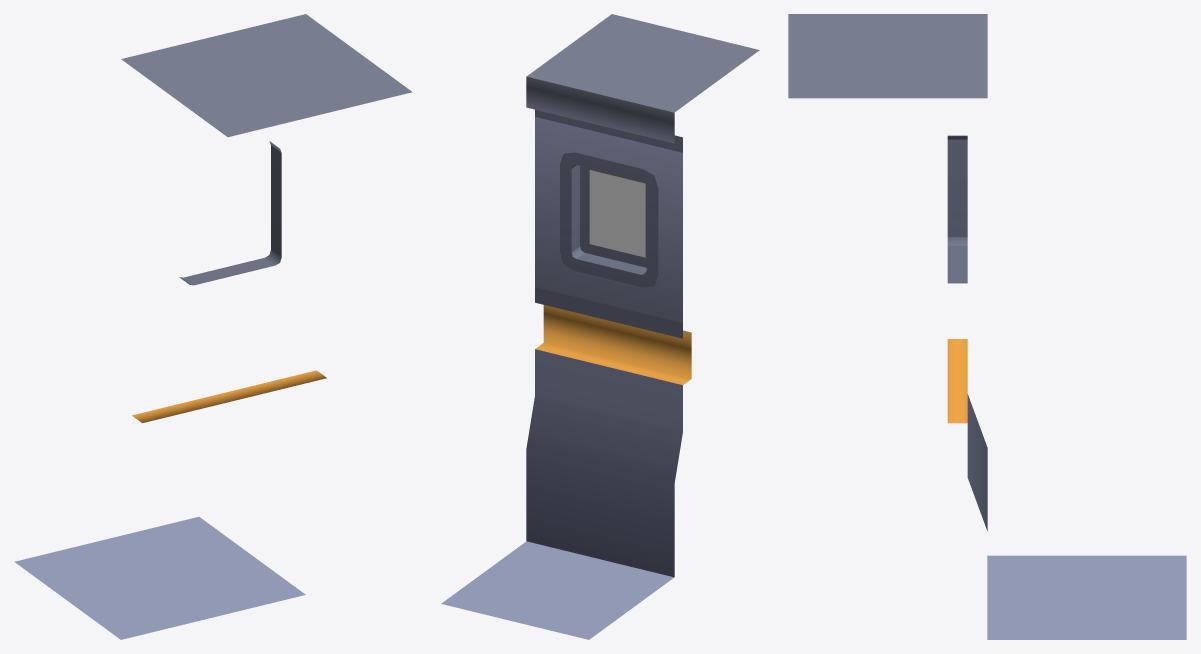
3 renders of one model, left to right at view 1: azimuth 30°, elevation 25°; view 2: azimuth 150°, elevation 25°; view 3: azimuth 270°, elevation 25°, orthographic. The views are drawn at different scales.
Visible parts, largest first — view 1: structure_window; view 2: structure_window; view 3: structure_window.
Boxes of the visible parts, bbox=[...] form: structure_window: bbox=[14, 14, 412, 639]; structure_window: bbox=[441, 14, 759, 639]; structure_window: bbox=[788, 14, 1186, 639].
Bounding box in the file's own units: 1 × 3 × 2.
Materials: 1 (1 with a texture image).
